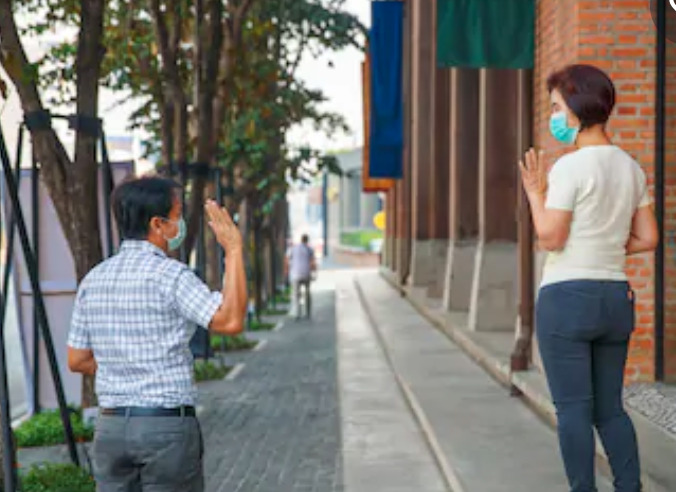Good: (286, 64, 659, 492), (66, 175, 316, 492)
